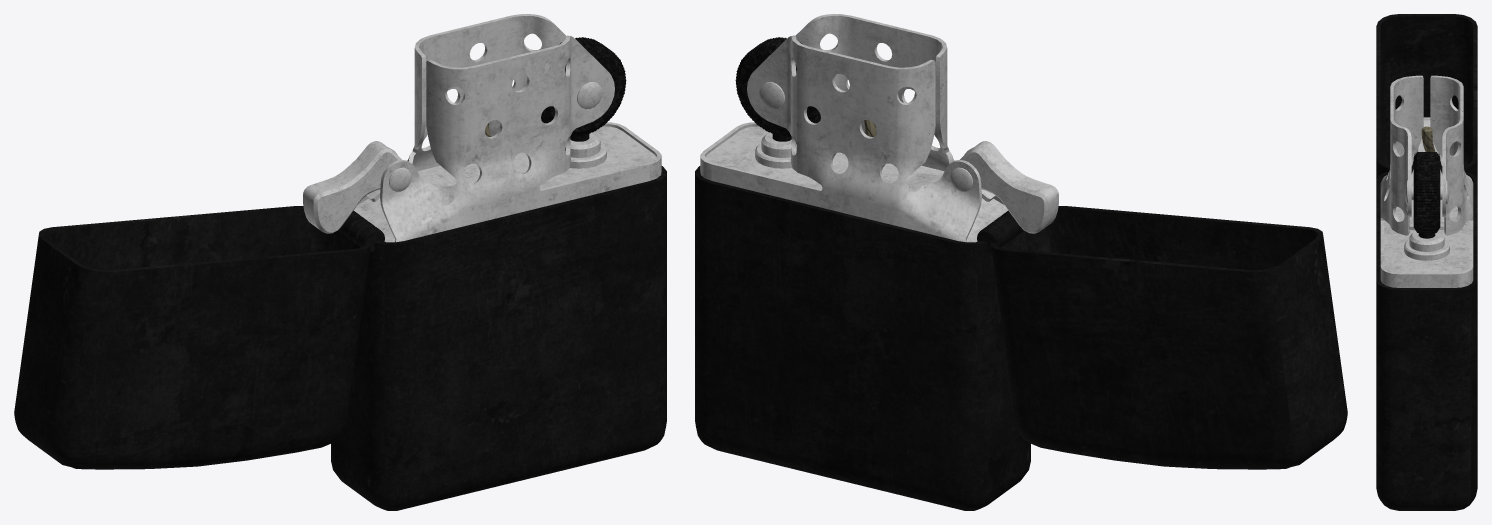
The model's file is item_lighter.glb.
3 views of the same model, side by side, from view 1: azimuth 30°, elevation 25°; view 2: azimuth 150°, elevation 25°; view 3: azimuth 270°, elevation 25° (orthographic). The views are drawn at different scales.
Parts seen in each view (by area): view 1: Lighter; view 2: Lighter; view 3: Lighter.
Boxes of the visible parts, left/top/right/bottom form: Lighter: left=14, top=14, right=666, bottom=510; Lighter: left=695, top=14, right=1347, bottom=510; Lighter: left=1376, top=14, right=1477, bottom=510.
Size of the model in its own units: 0.0808 by 0.0538 by 0.014.
4 materials, 4 textured.
